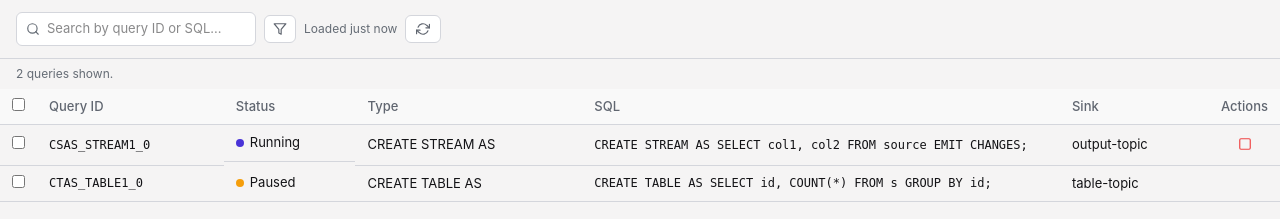
Scenario: [@ksql-queries-list] KsqlQueriesList › search filters by ID
Type "CSAS" into the field with placeholder "Search by query ID or SQL..." at coordinates (136, 29), box x1=16 y1=12 x2=256 y2=46
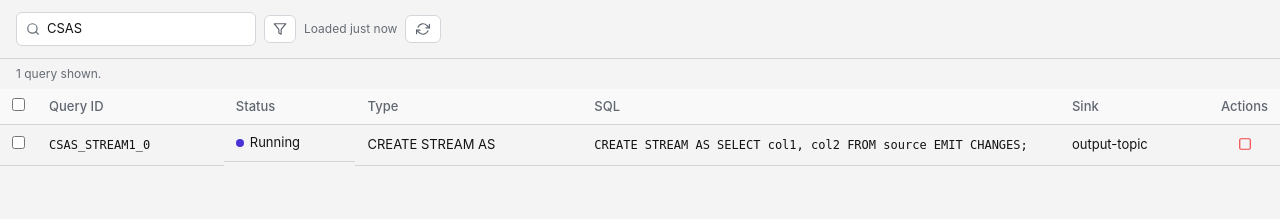
Expected: the text "CSAS_STREAM1_0" is shown, x1=37 y1=124 x2=224 y2=165
Result: the text "CTAS_TABLE1_0" is gone
